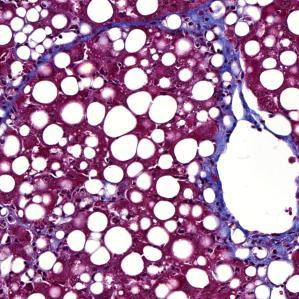fibrosis: (207, 28, 255, 133)
